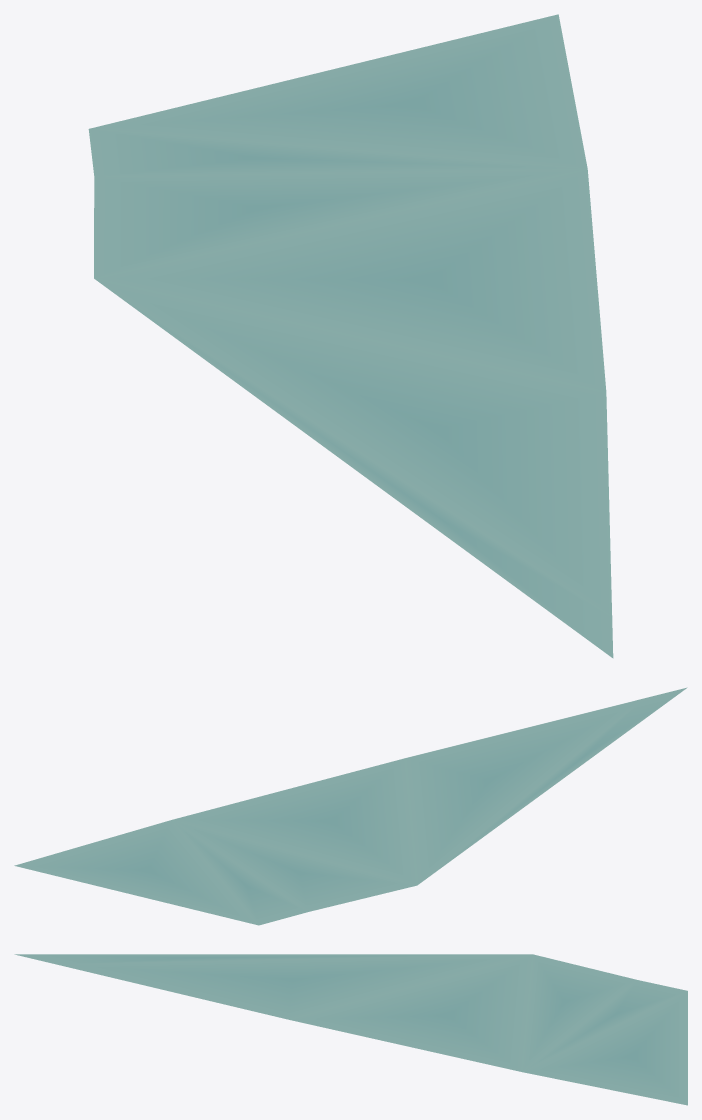
File: water-16-6.glb
The picture shows the model from 3 angles, top to bottom: view 1: azimuth 30°, elevation 25°; view 2: azimuth 150°, elevation 25°; view 3: azimuth 270°, elevation 25°; orthographic projection. The views are drawn at different scales.
Size of the model in its own units: 5.39 by 0 by 10.16.
